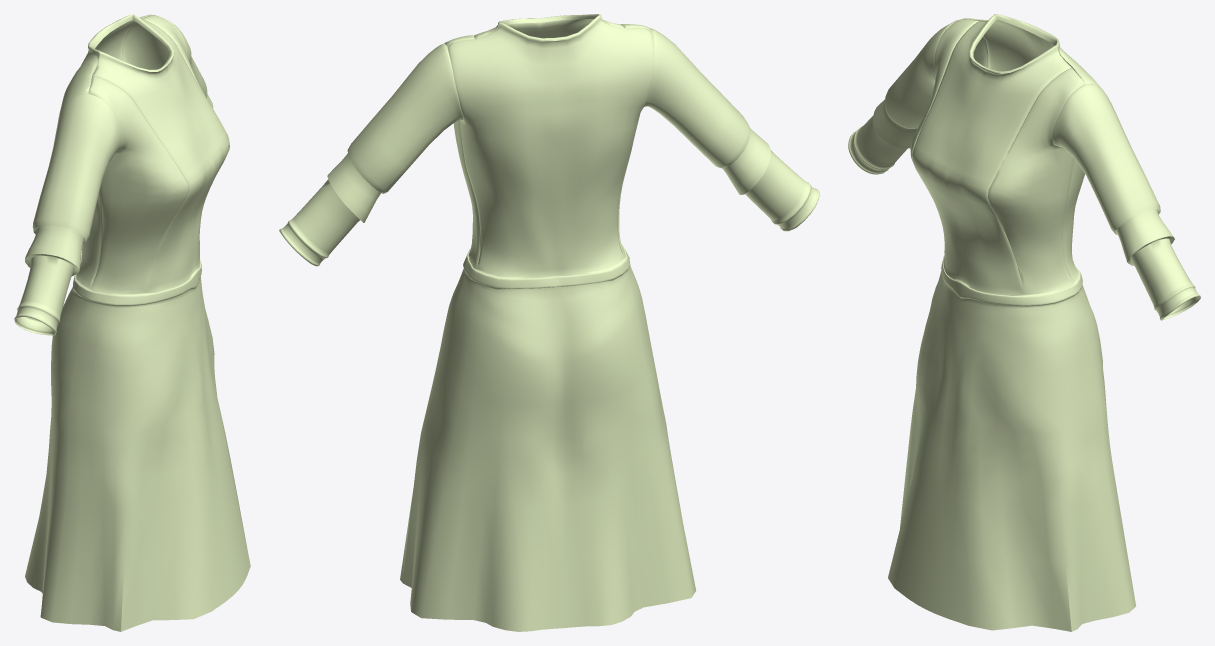
File: female long gaon .fbx
3 renders of one model, left to right at view 1: azimuth 30°, elevation 25°; view 2: azimuth 150°, elevation 25°; view 3: azimuth 270°, elevation 25°, orthographic. The views are drawn at different scales.
Parts seen in each view (by area): view 1: Plane001; view 2: Plane001; view 3: Plane001.
Boxes of the visible parts, x1,y1,x2,y2 form: Plane001: [14, 14, 250, 631]; Plane001: [279, 14, 819, 631]; Plane001: [848, 14, 1200, 631].
Bounding box in the file's own units: 583 × 854 × 501.
